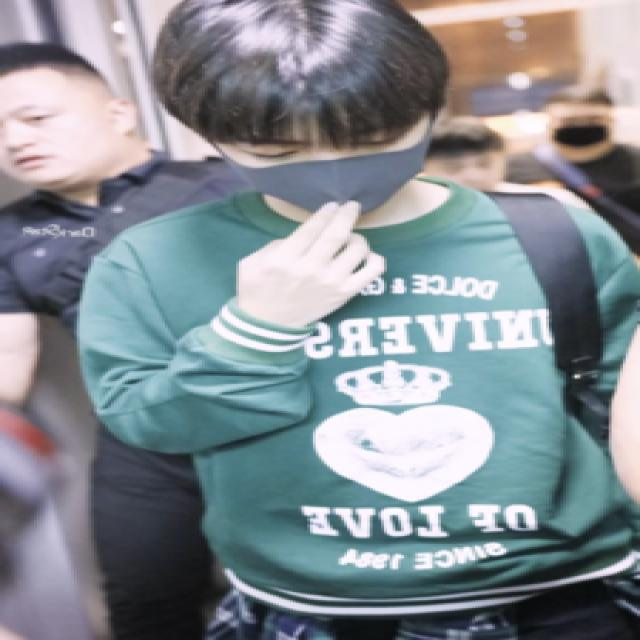mask: (222, 120, 436, 218), (548, 112, 614, 146)
no_mask: (3, 94, 111, 186), (424, 150, 506, 193)
